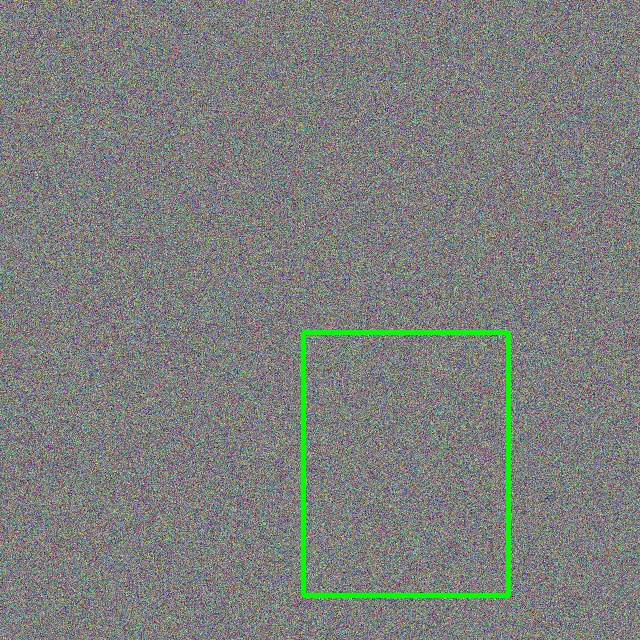base: (303, 332, 508, 595)
